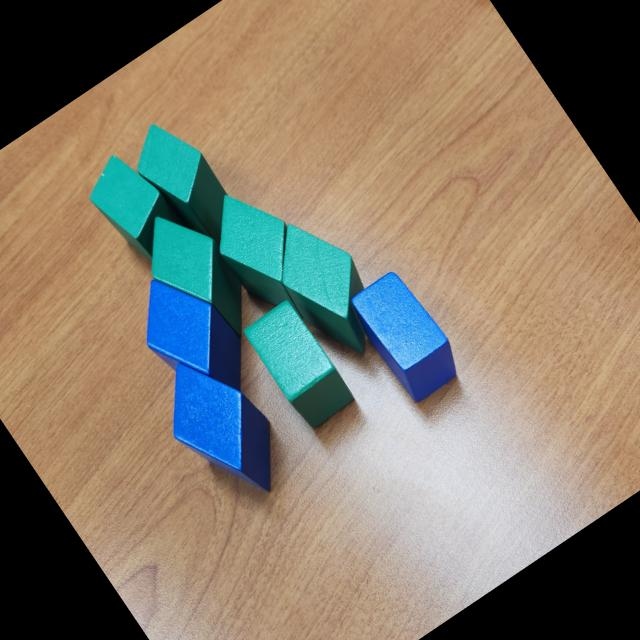blue: (140, 338, 302, 519), (118, 256, 266, 421), (342, 264, 470, 408)
green: (254, 204, 401, 370), (124, 196, 268, 360), (117, 108, 250, 262), (192, 175, 322, 319), (239, 295, 359, 433), (77, 142, 194, 274)
